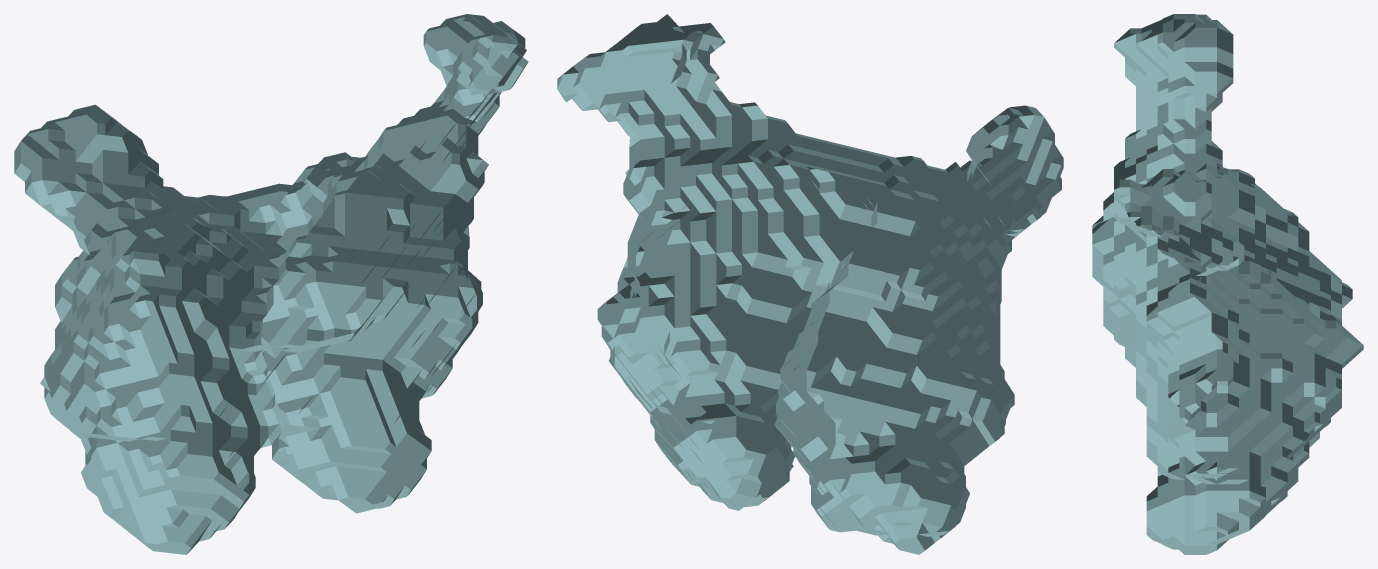
File: region_0130_SC__suprachiasmatic_nucleus_.glb
3 renders of one model, left to right at view 1: azimuth 30°, elevation 25°; view 2: azimuth 150°, elevation 25°; view 3: azimuth 270°, elevation 25°, orthographic. The views are drawn at different scales.
Parts seen in each view (by area): view 1: world; view 2: world; view 3: world.
Boxes of the visible parts, bbox=[...] form: world: bbox=[14, 14, 528, 554]; world: bbox=[557, 14, 1063, 554]; world: bbox=[1092, 14, 1363, 554].
Size of the model in its own units: 0.384 by 0.344 by 0.2.
